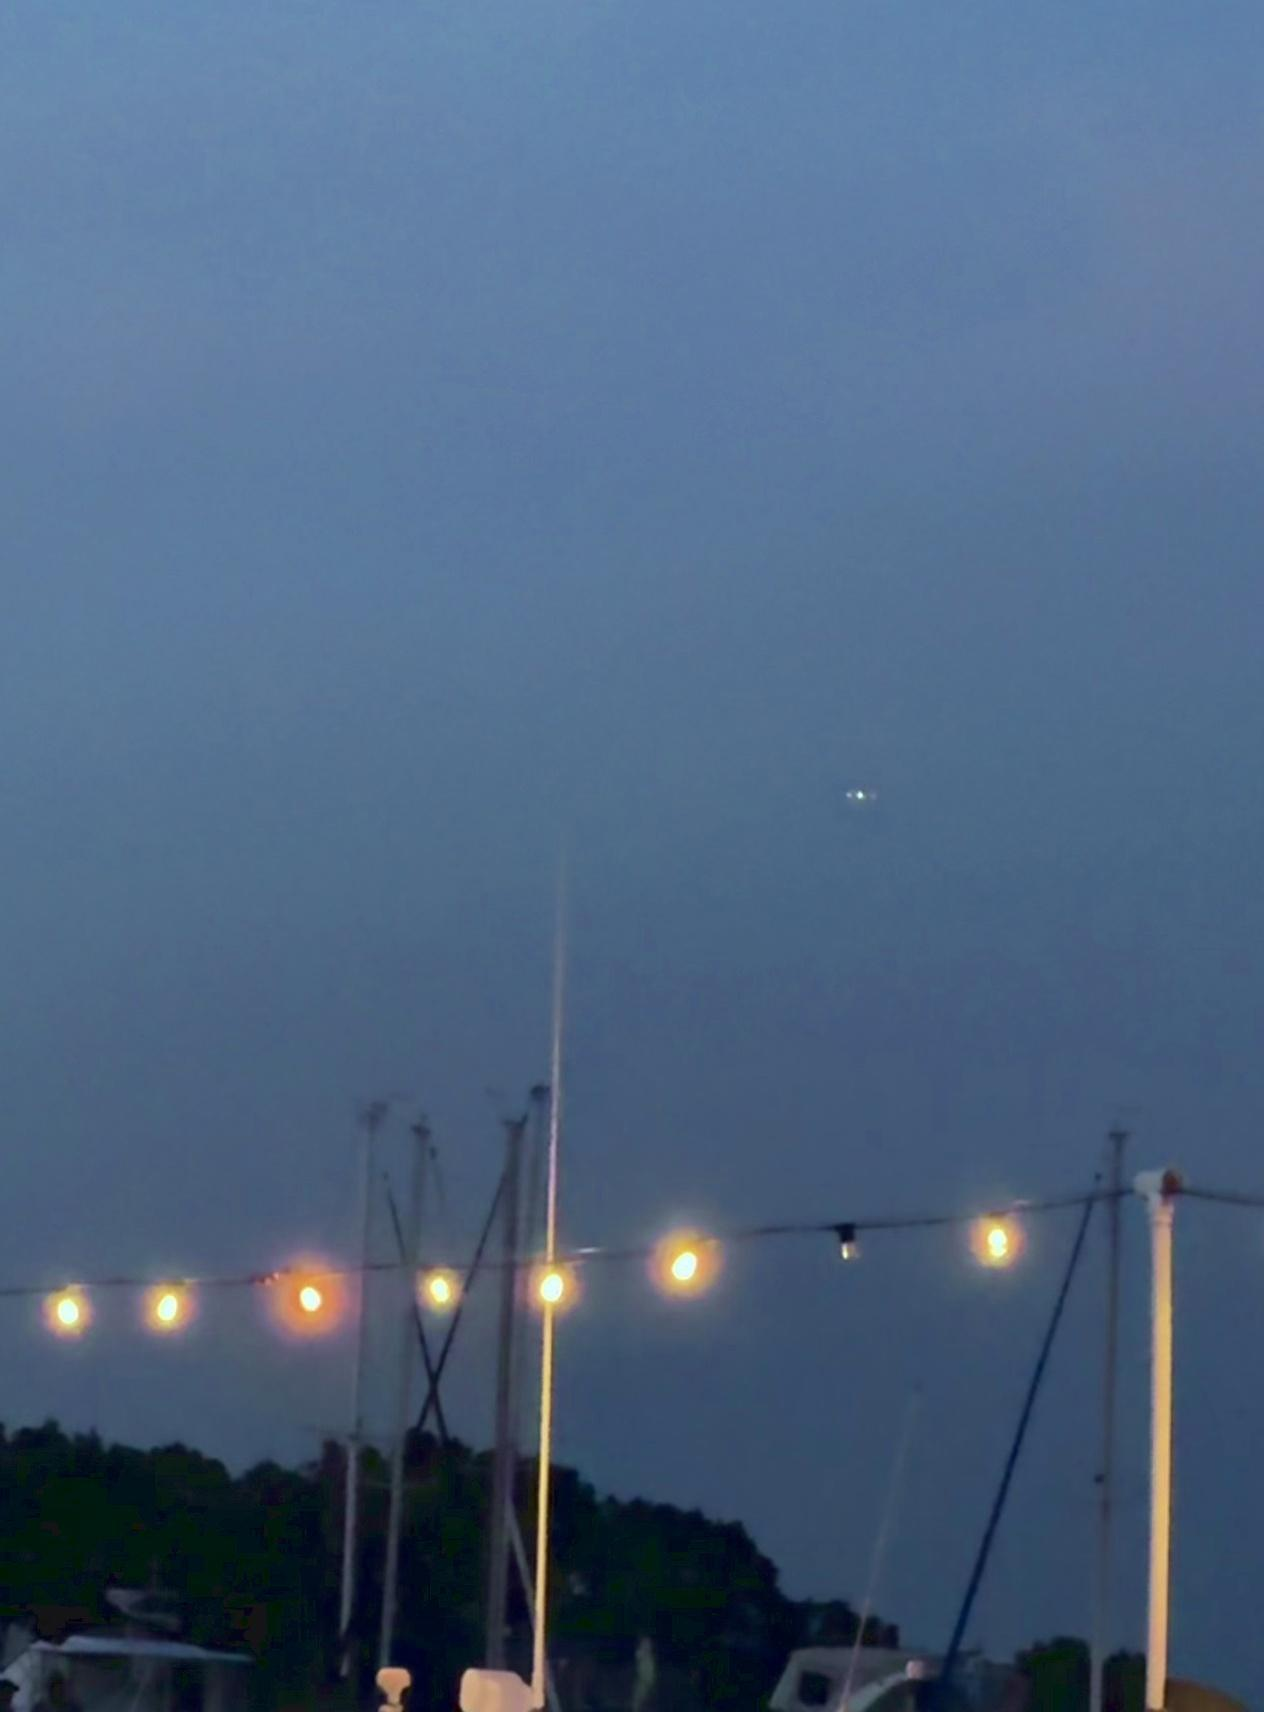Plane: (832, 772, 888, 815)
